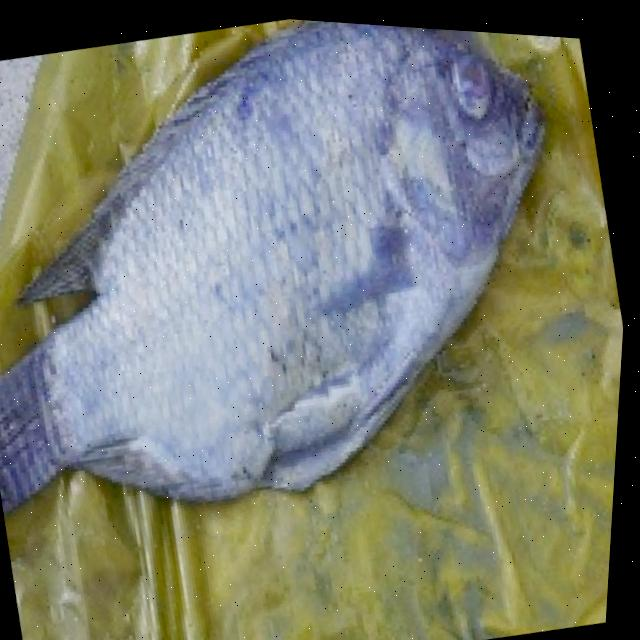Non-Fresh: (61, 4, 609, 451), (417, 28, 514, 130)
